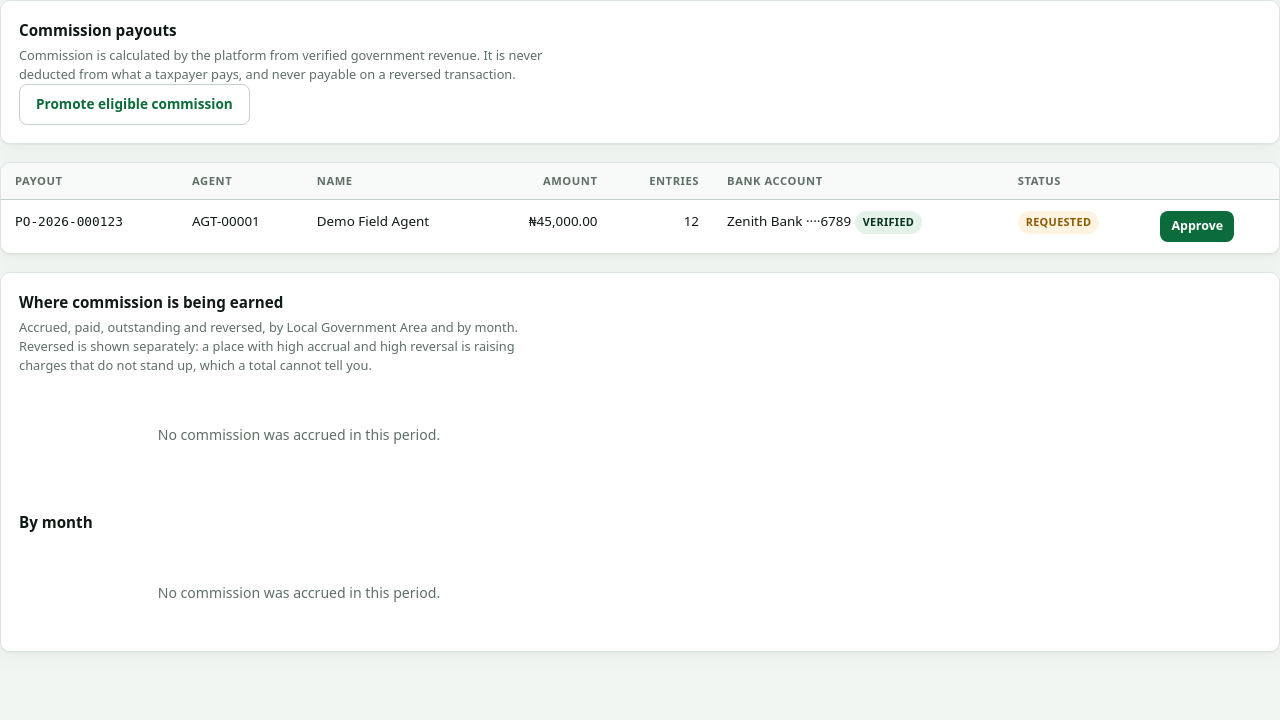
Test case: approving a commission payout › shows the refusal when the server will not allow it
Expected: the text "PO-2026-000123" is shown, [15,214,123,229]
Click the button "Approve".
click(1197, 227)  # box [1160,211,1234,242]
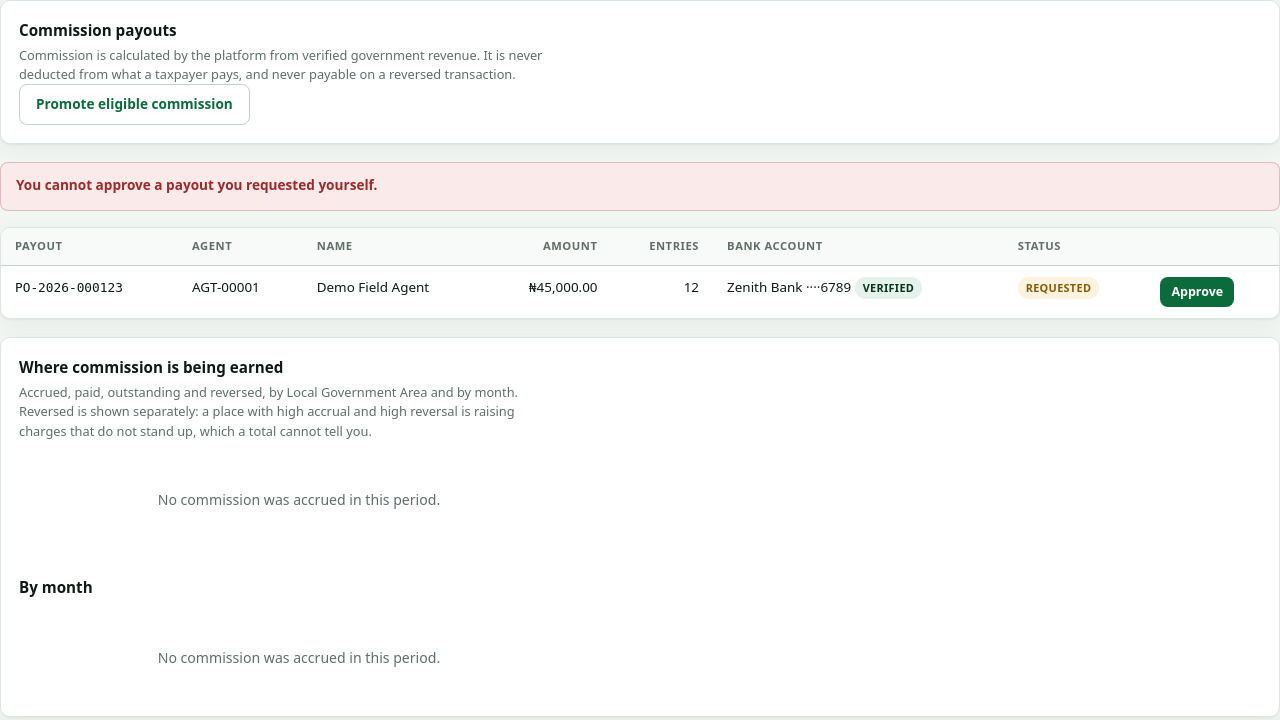
Expected: the text "You cannot approve a payout you requested yourself." is shown, [16,175,377,194]
